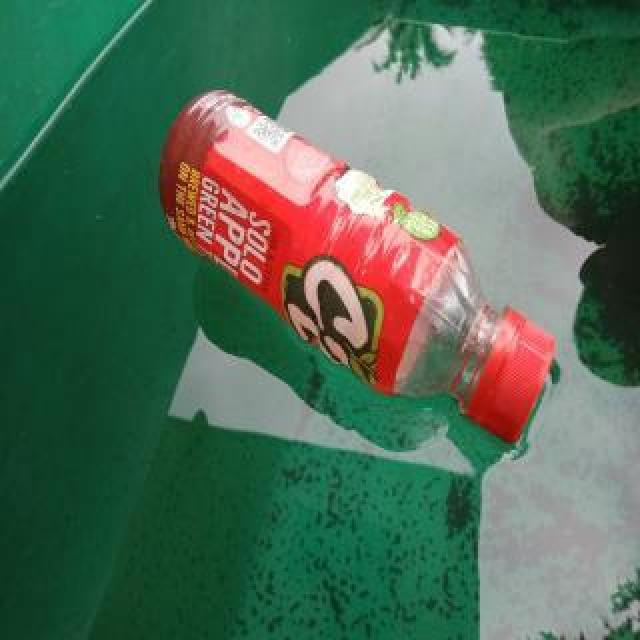bottle: (156, 82, 558, 448)
